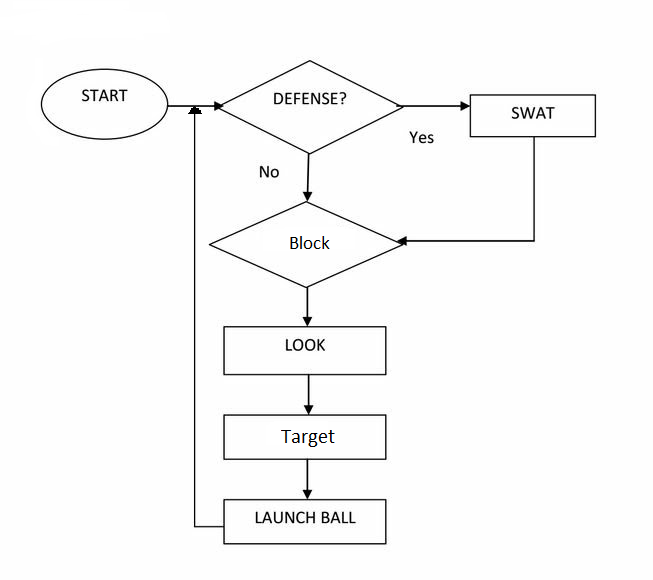arrow: (185, 103, 223, 531), (396, 137, 538, 248), (399, 98, 472, 115), (168, 100, 224, 113), (302, 153, 313, 203), (304, 374, 315, 417), (302, 285, 312, 327), (302, 461, 311, 504)
decision: (220, 60, 403, 154), (209, 202, 404, 287)
process: (219, 322, 390, 378), (219, 496, 389, 548), (221, 412, 390, 462), (467, 92, 600, 141)
terminator: (39, 67, 168, 142)
text: (249, 509, 359, 526), (269, 88, 348, 107), (279, 428, 335, 447), (79, 86, 128, 105), (288, 233, 332, 252), (282, 338, 328, 355), (510, 105, 555, 122), (408, 129, 436, 148), (256, 164, 281, 180)
